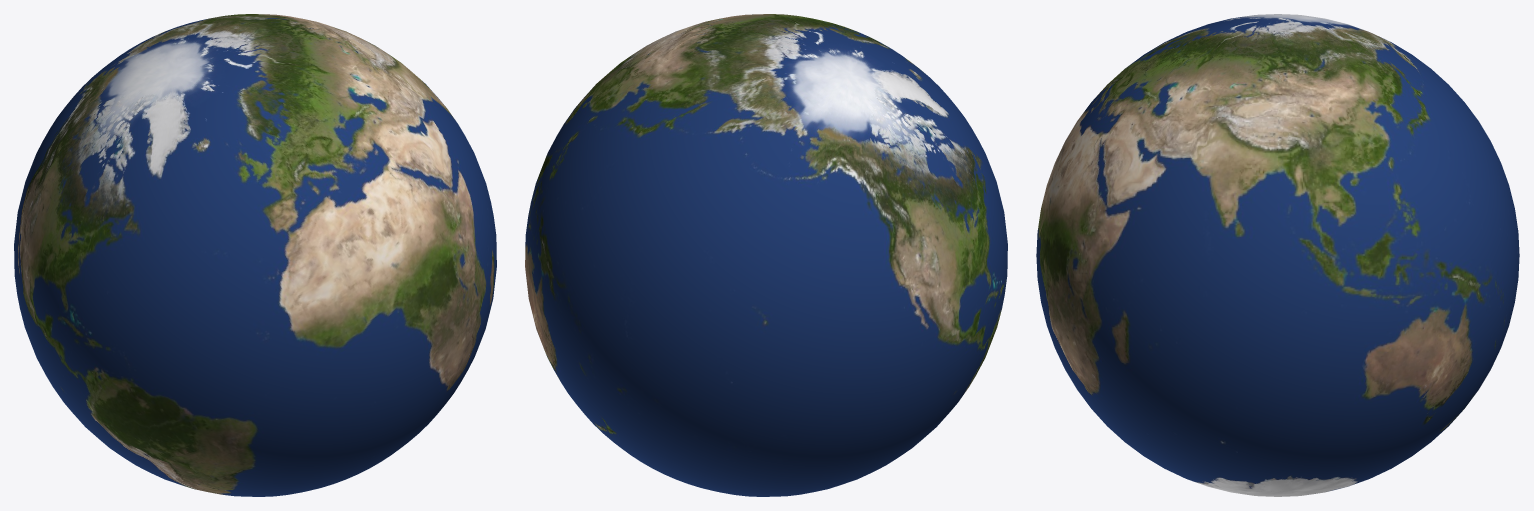
Rendered from terra.glb.
The picture shows the model from 3 angles, left to right: view 1: azimuth 30°, elevation 25°; view 2: azimuth 150°, elevation 25°; view 3: azimuth 270°, elevation 25°; orthographic projection.
Visible parts, largest first — view 1: Terra (rotação); view 2: Terra (rotação); view 3: Terra (rotação).
Boxes of the visible parts, bbox=[...] form: Terra (rotação): bbox=[14, 14, 496, 496]; Terra (rotação): bbox=[525, 14, 1007, 496]; Terra (rotação): bbox=[1036, 14, 1519, 496].
Bounding box in the file's own units: 0.3 × 0.3 × 0.3.
1 material, 1 textured.
